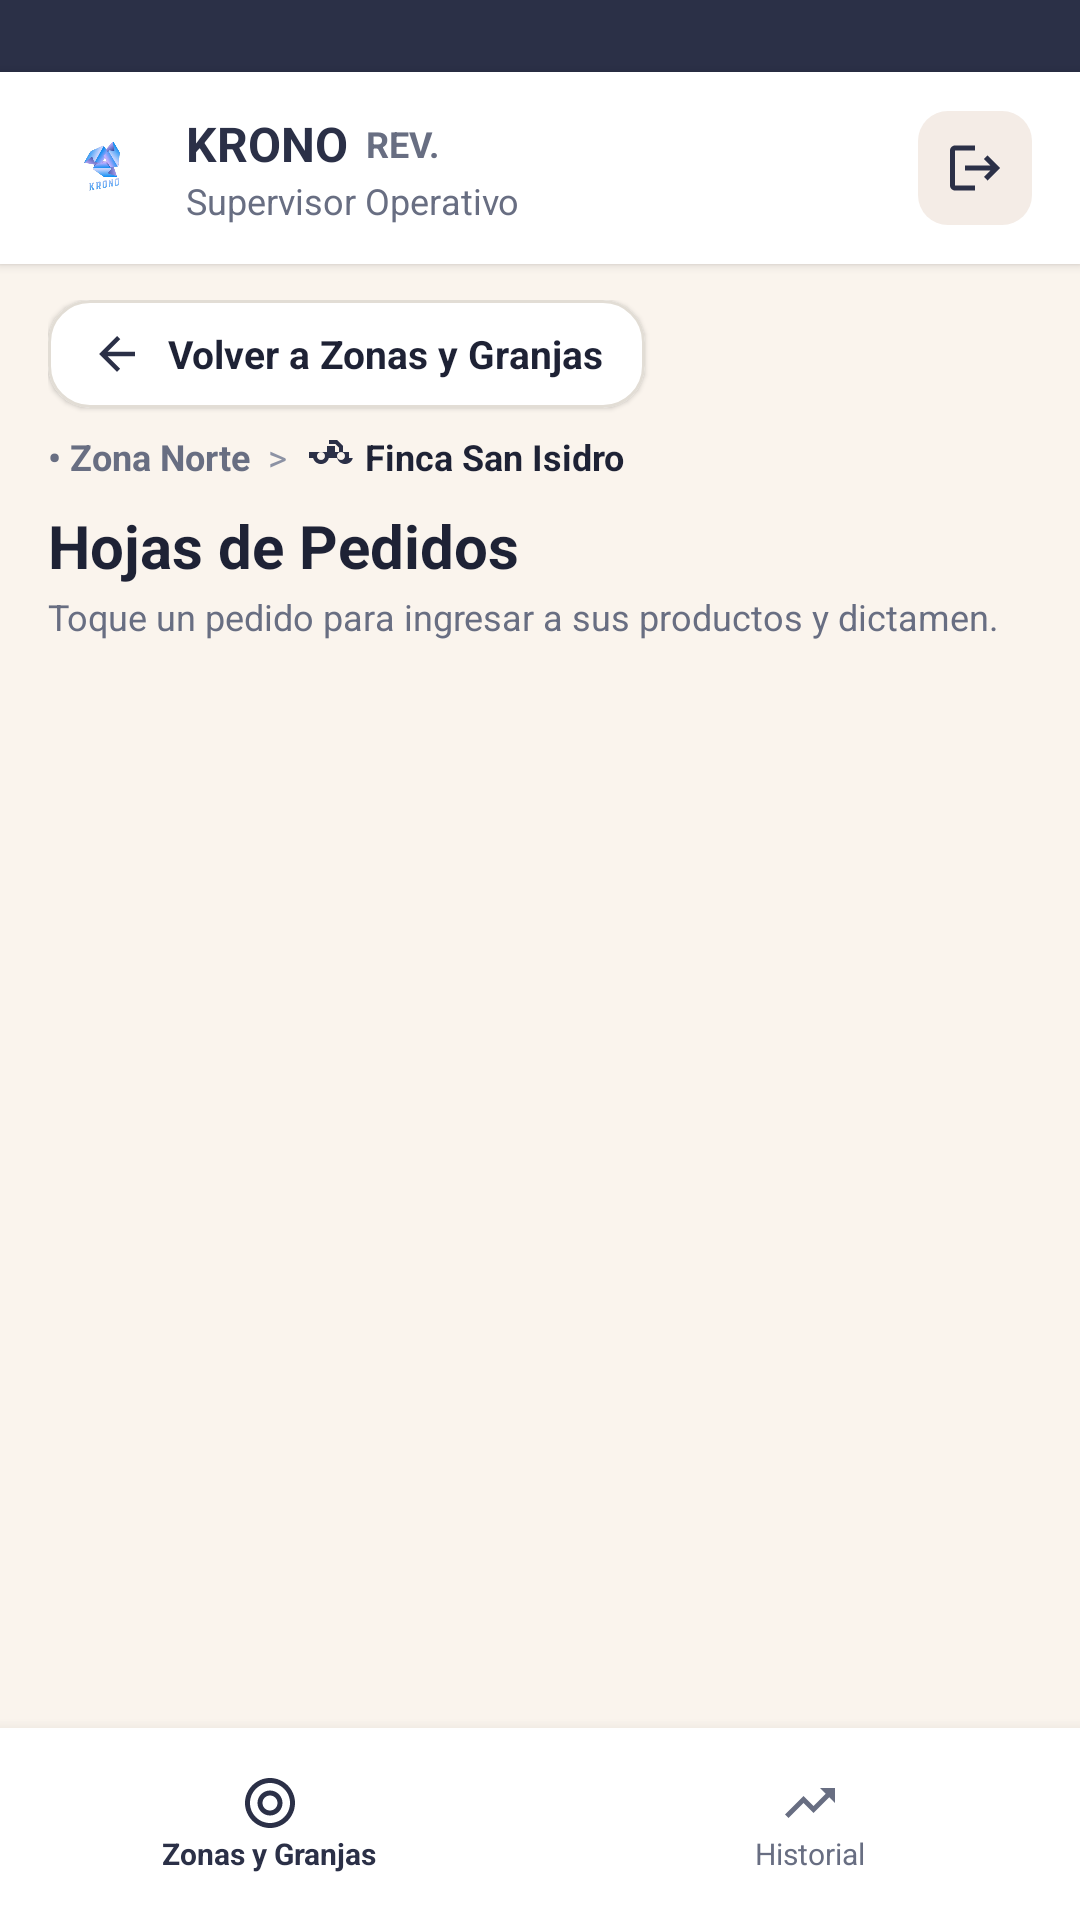

Icon bounding boxes for this 1080x1920 phone screenshot, format bbox=[x1, y1, x2, y2]:
Farm: bbox=[309, 440, 353, 464]
